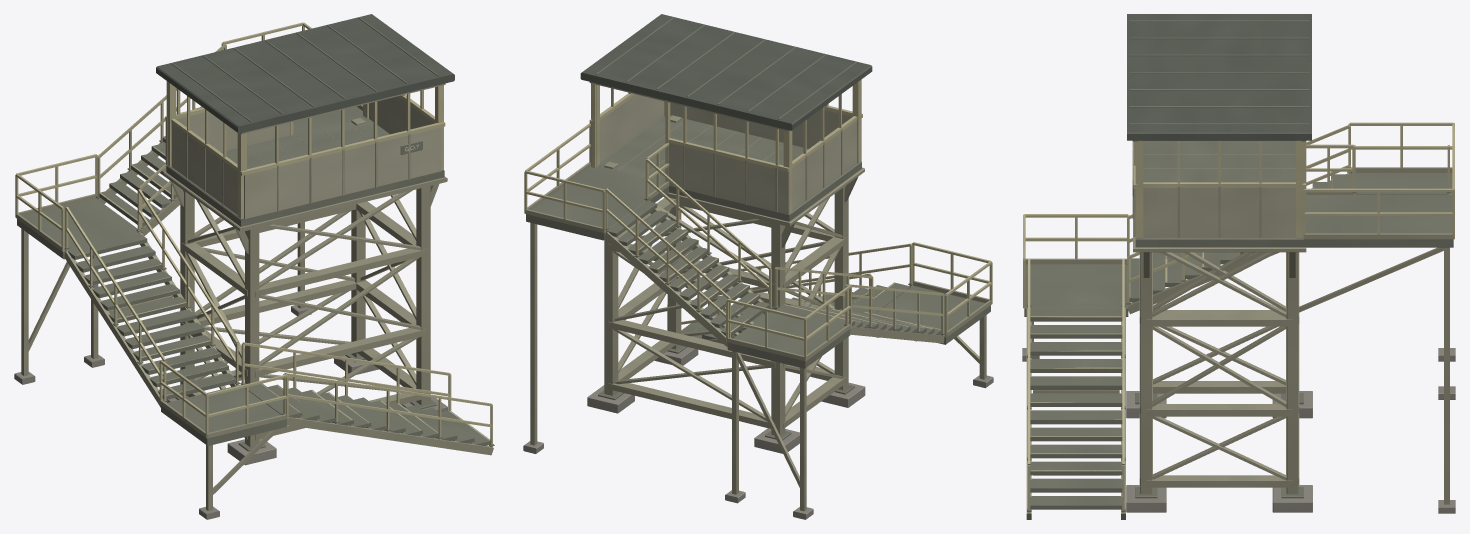
The model's file is MetalSteezy_Mirador_Large.fbx.
3 renders of one model, left to right at view 1: azimuth 30°, elevation 25°; view 2: azimuth 150°, elevation 25°; view 3: azimuth 270°, elevation 25°, orthographic. The views are drawn at different scales.
Visible parts, largest first — view 1: MetalSteezy_Mirador_Large; view 2: MetalSteezy_Mirador_Large; view 3: MetalSteezy_Mirador_Large.
Boxes of the visible parts, x1,y1,x2,y2 form: MetalSteezy_Mirador_Large: (14, 14, 494, 519); MetalSteezy_Mirador_Large: (523, 14, 993, 519); MetalSteezy_Mirador_Large: (1022, 14, 1455, 519).
Size of what is drawn, in the model's own units: 7.53 by 8.5 by 8.5.
Materials: 1 (1 with a texture image).
